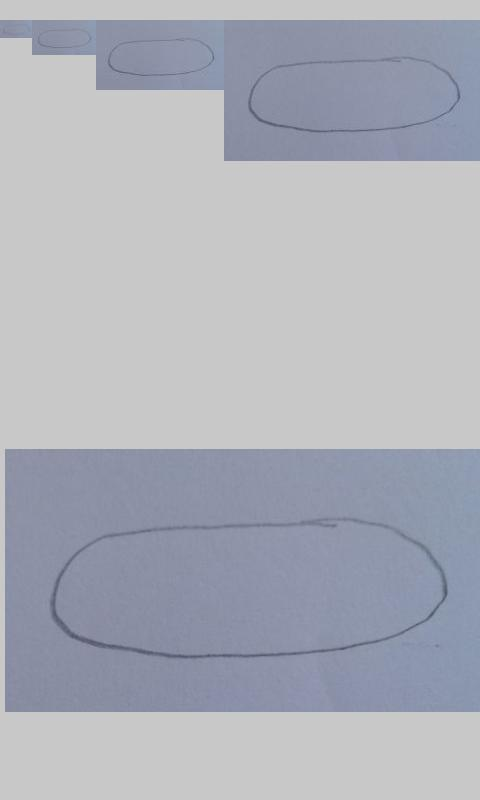chip: (47, 516, 449, 659), (246, 56, 461, 134), (107, 37, 216, 77), (37, 28, 92, 49), (2, 23, 32, 36)
